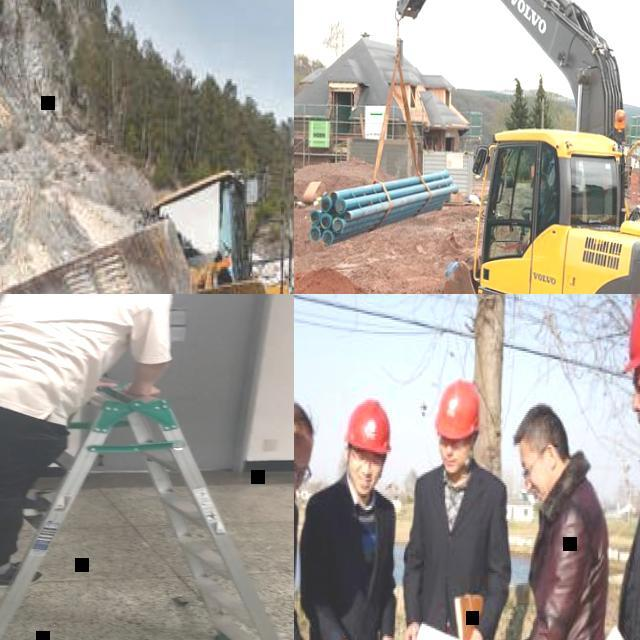Helmet: (431, 358, 512, 462), (333, 397, 407, 457), (611, 297, 640, 397)
Robbery: (0, 294, 179, 597), (409, 361, 528, 640), (308, 391, 402, 640), (520, 395, 613, 640), (615, 290, 640, 640), (293, 395, 310, 640)
